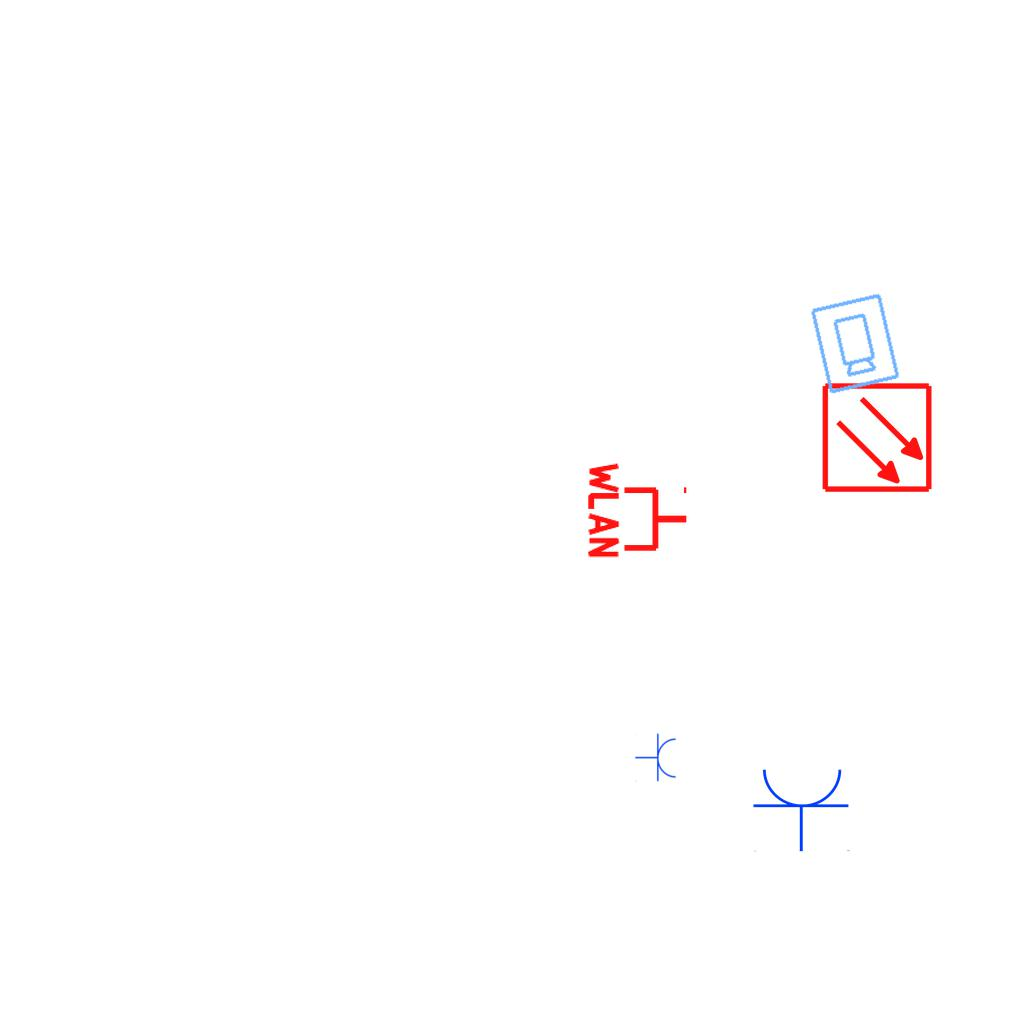KFO_Kamera_mit_Festobjektiv: (806, 290, 903, 397)
RMO_Rauchmelder_optischer: (821, 381, 934, 494)
Schukosteckdose_einfach: (752, 765, 852, 852), (635, 733, 678, 783)
WLAN: (586, 458, 691, 562)
